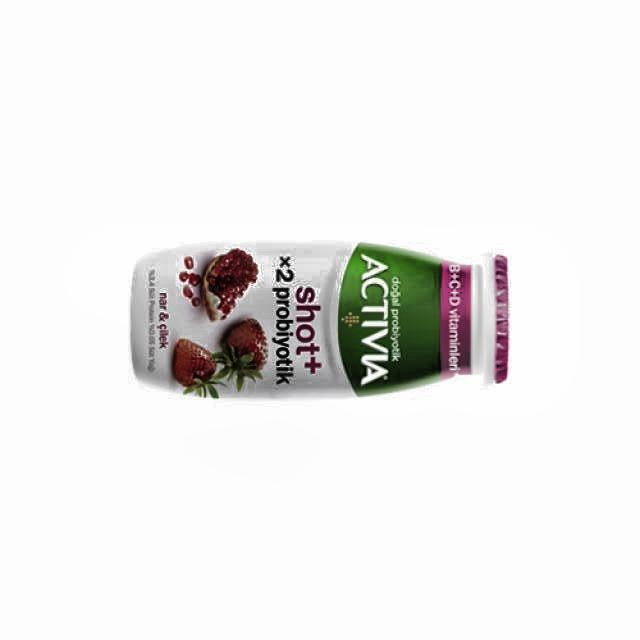plastic: (132, 243, 508, 397)
